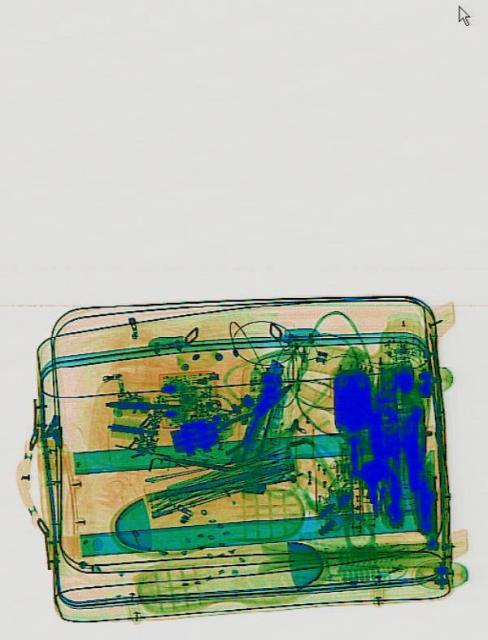Pliers: (209, 370, 297, 458)
